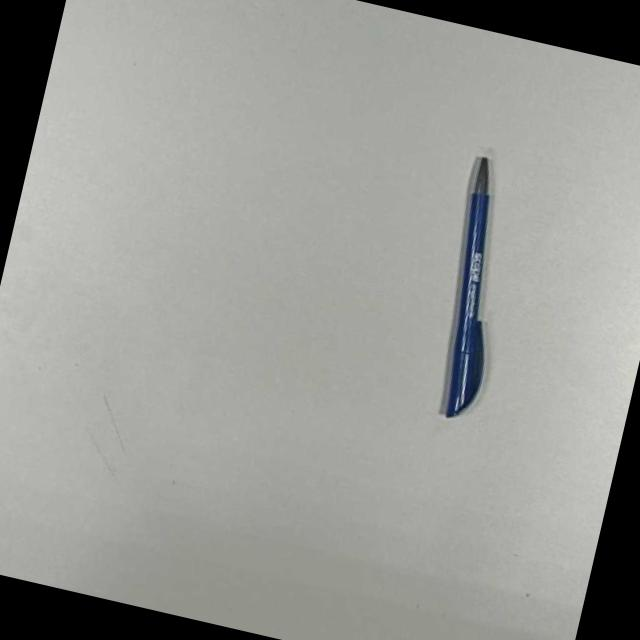caneta: (447, 158, 506, 420)
